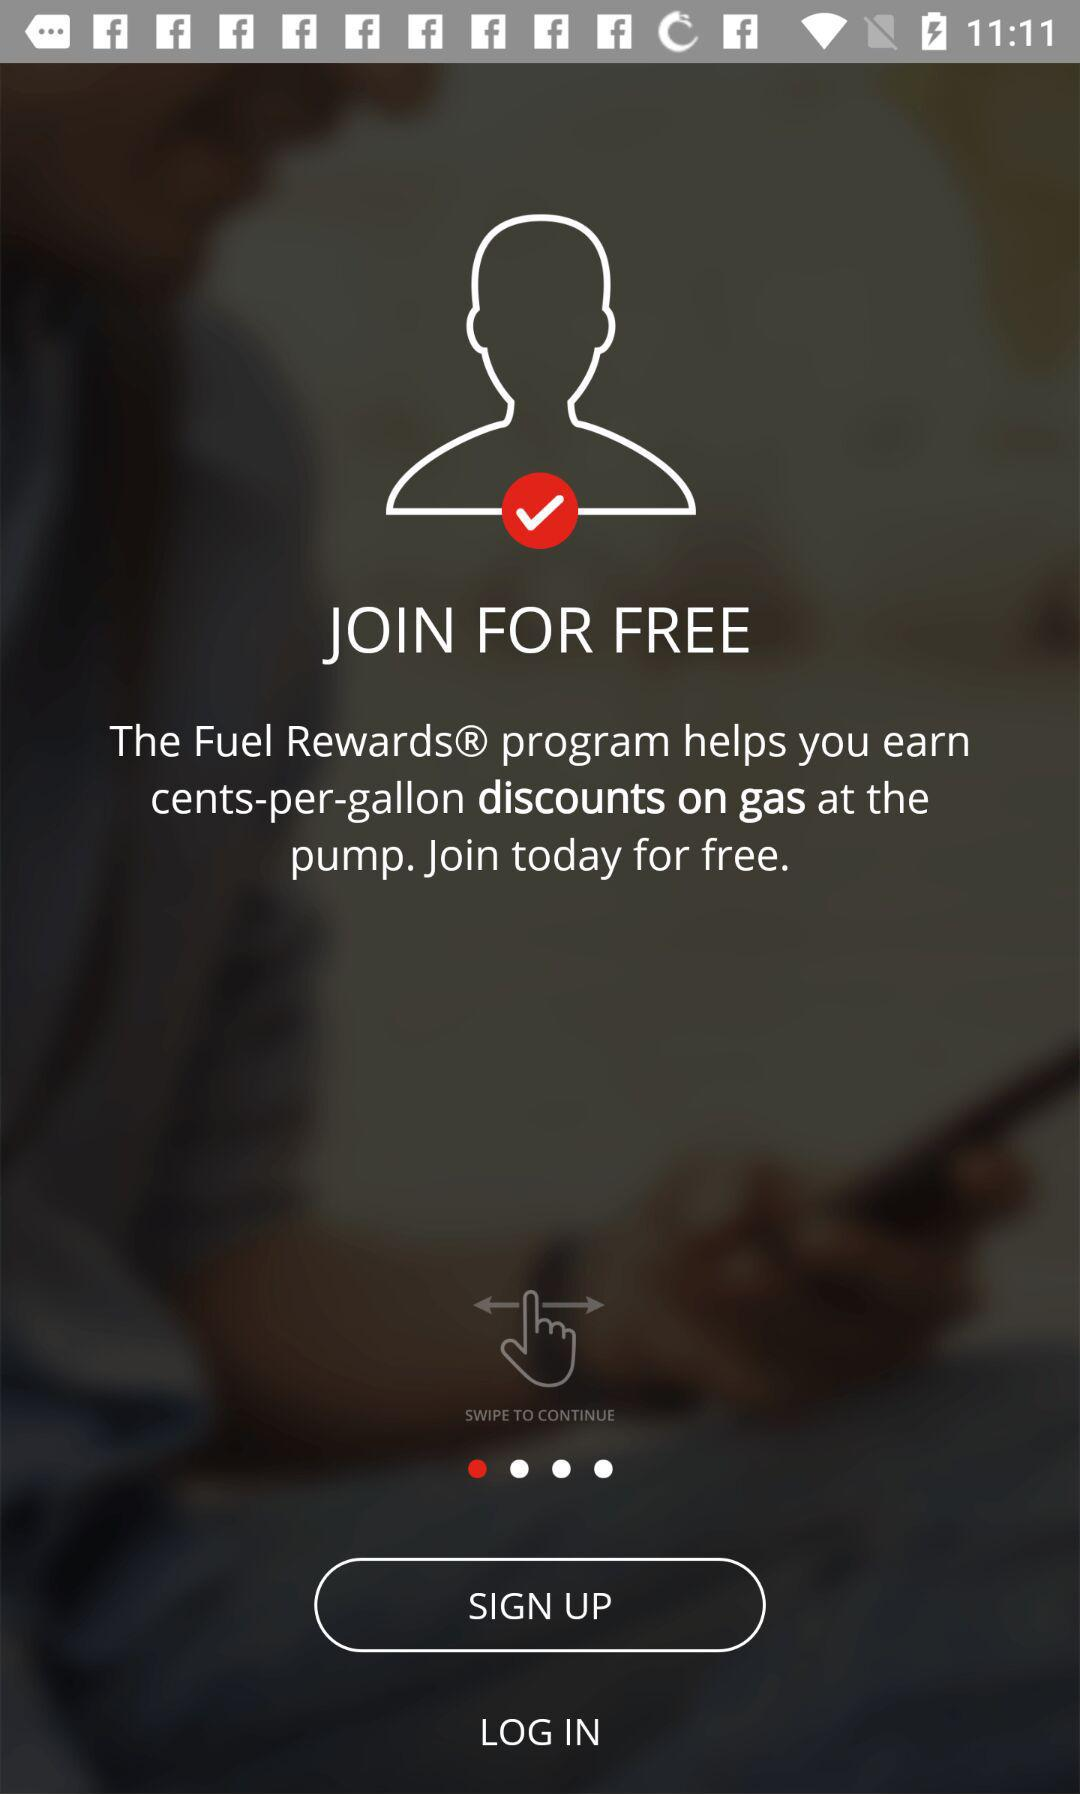BackgroundImage: (1, 64, 1080, 1794)
Image: (383, 211, 697, 551), (469, 1288, 606, 1389)
PageIndicator: (465, 1457, 615, 1481)
Text: (108, 720, 969, 883), (319, 602, 751, 665), (479, 1716, 600, 1747), (461, 1404, 618, 1424)
TextButton: (313, 1557, 767, 1654)
UpperTaskBar: (1, 1, 1080, 64)
